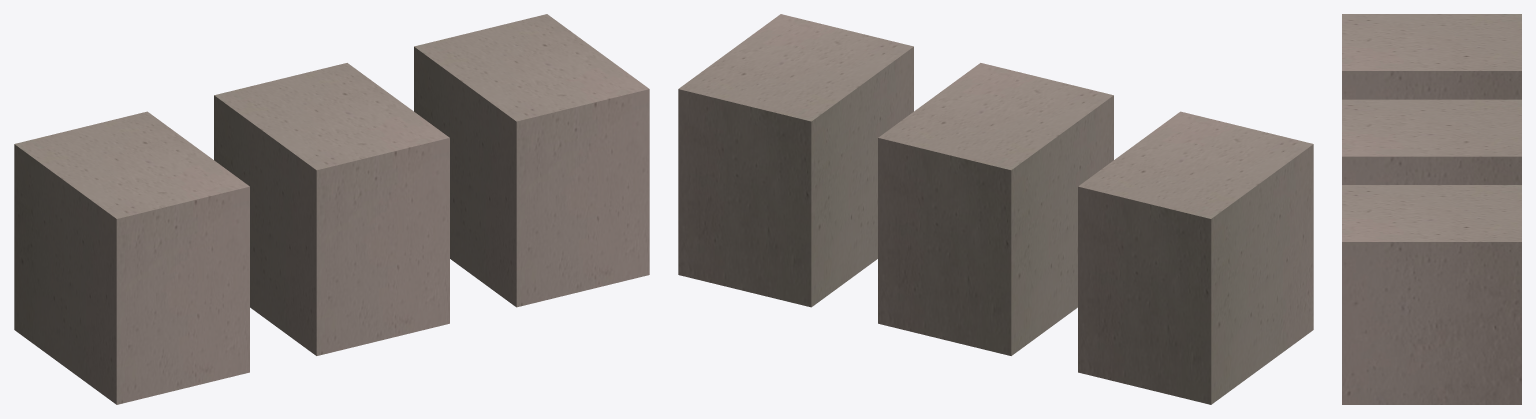
The model's file is Tecla7.obj.
3 views of the same model, side by side, from view 1: azimuth 30°, elevation 25°; view 2: azimuth 150°, elevation 25°; view 3: azimuth 270°, elevation 25° (orthographic). The views are drawn at different scales.
Parts seen in each view (by area): view 1: Tecla_1.007; view 2: Tecla_1.007; view 3: Tecla_1.007.
Part boxes in pixels (x1,y1,x2,y2): Tecla_1.007: (14, 14, 649, 404); Tecla_1.007: (678, 14, 1313, 404); Tecla_1.007: (1342, 14, 1521, 404).
Size of the model in its own units: 0.3892 by 0.1297 by 0.1297.
